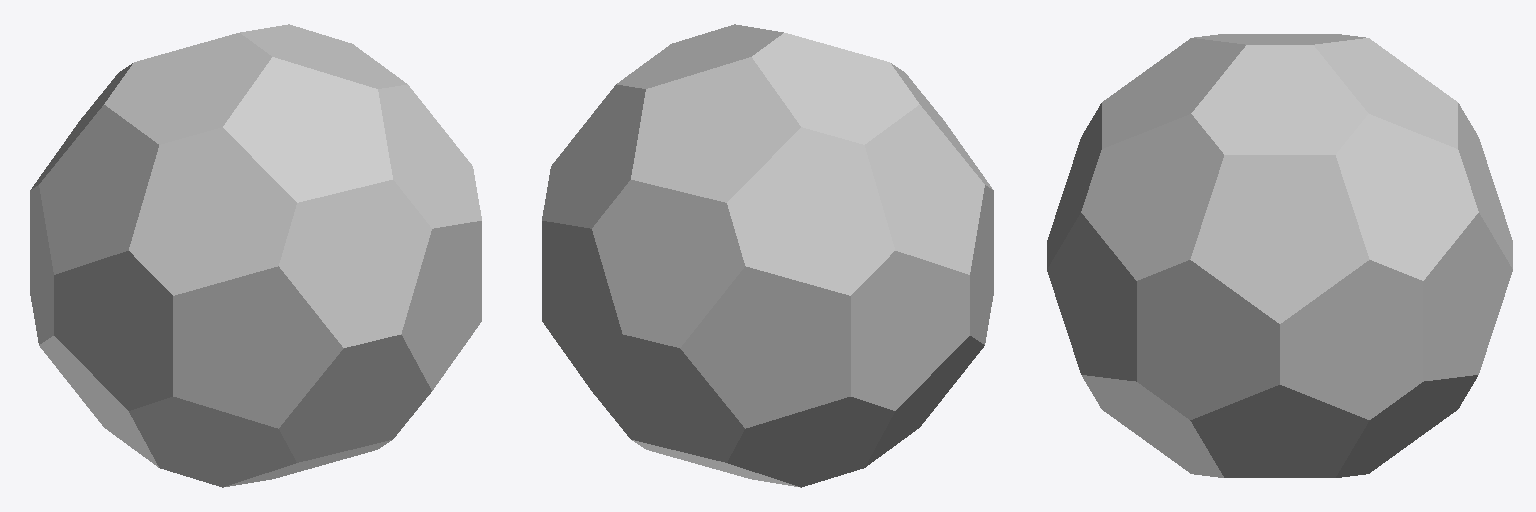
The model's file is 6-geodesicA.obj.
The picture shows the model from 3 angles: view 1: azimuth 30°, elevation 25°; view 2: azimuth 150°, elevation 25°; view 3: azimuth 270°, elevation 25°; orthographic projection.
Bounding box in the file's own units: 1.98 × 1.98 × 1.98.